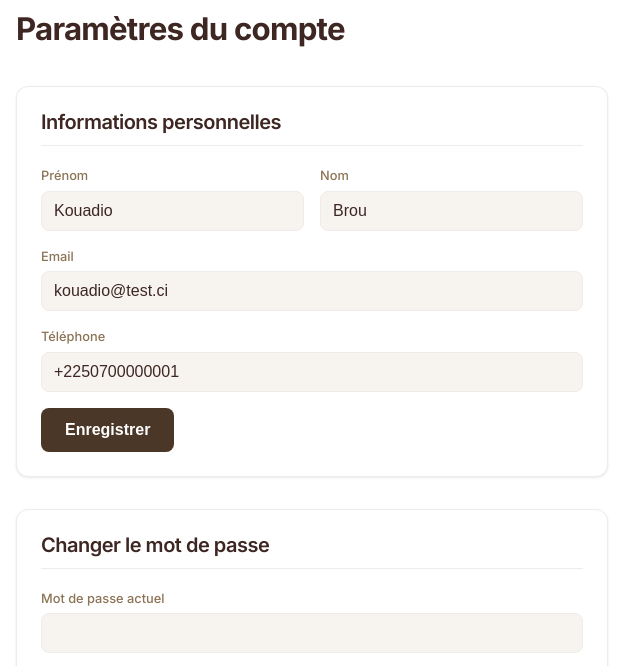
Scenario: Settings Page — F2: Gestion du Profil › Profile section › shows API error message on profile update failure
This screenshot has width=625, height=666.
Click the button with test id "st-prof-submit" at (108, 430), box [41,408,174,452]
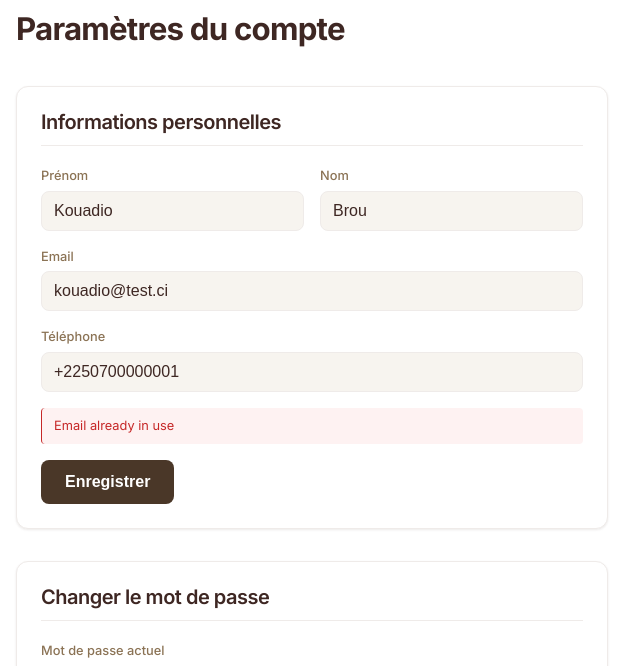
Check: the text with test id "st-prof-error" reads "Email already in use", box [54,418,174,433]
